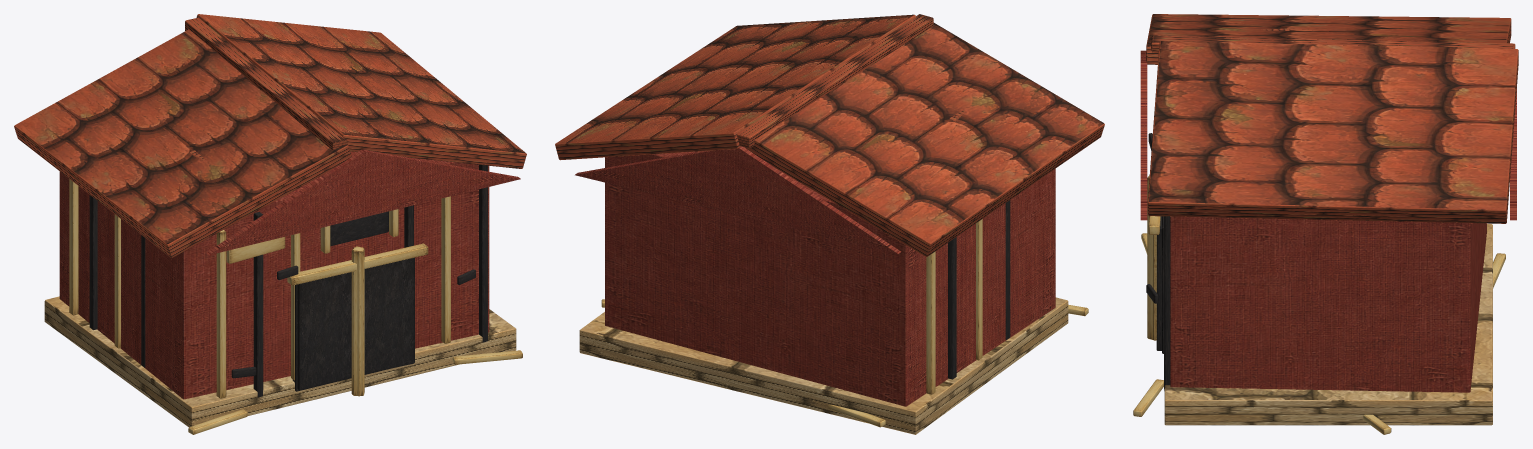
Rendered from sagging-barn.glb.
3 views of the same model, side by side, from view 1: azimuth 30°, elevation 25°; view 2: azimuth 150°, elevation 25°; view 3: azimuth 270°, elevation 25° (orthographic). The views are drawn at different scales.
Visible parts, largest first — view 1: sagging_barn_landmark, barn_front_roof_gable_closure; view 2: sagging_barn_landmark, barn_rear_roof_gable_closure; view 3: sagging_barn_landmark, barn_front_roof_gable_closure, barn_rear_roof_gable_closure.
Part boxes in pixels (x1,y1,x2,y2): sagging_barn_landmark: [14, 14, 526, 434]; barn_front_roof_gable_closure: [206, 149, 520, 254]; sagging_barn_landmark: [555, 14, 1104, 434]; barn_rear_roof_gable_closure: [575, 146, 901, 253]; sagging_barn_landmark: [1133, 14, 1518, 434]; barn_front_roof_gable_closure: [1140, 50, 1147, 220]; barn_rear_roof_gable_closure: [1510, 89, 1516, 220].
Size of the model in its own units: 8.75 by 5.71 by 6.87.
9 materials, 9 textured.
